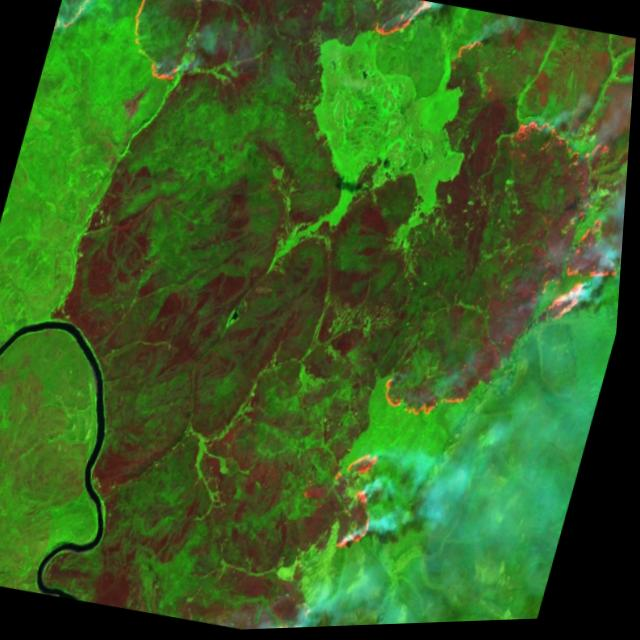fire: (268, 355, 488, 631), (459, 111, 633, 347), (40, 0, 211, 99), (355, 0, 495, 85)
